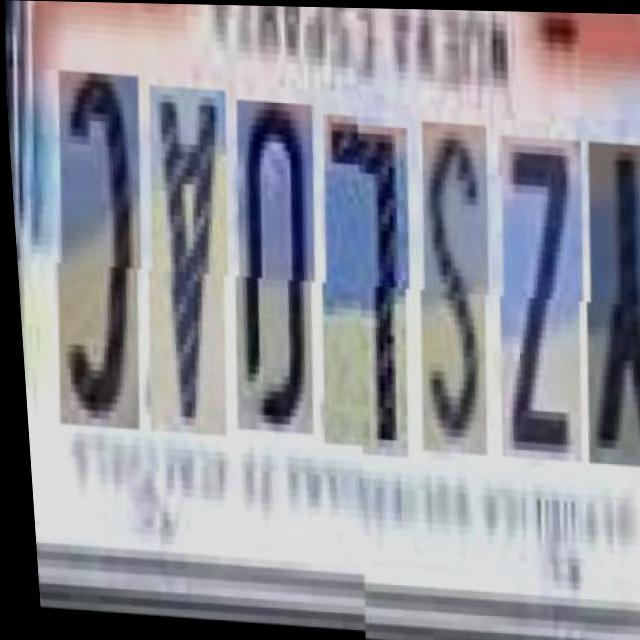0: (213, 103, 319, 438)
a: (125, 90, 233, 440)
c: (34, 77, 146, 436)
l: (300, 117, 413, 452)
s: (397, 114, 493, 447)
y: (565, 132, 640, 459)
z: (478, 127, 587, 453)
